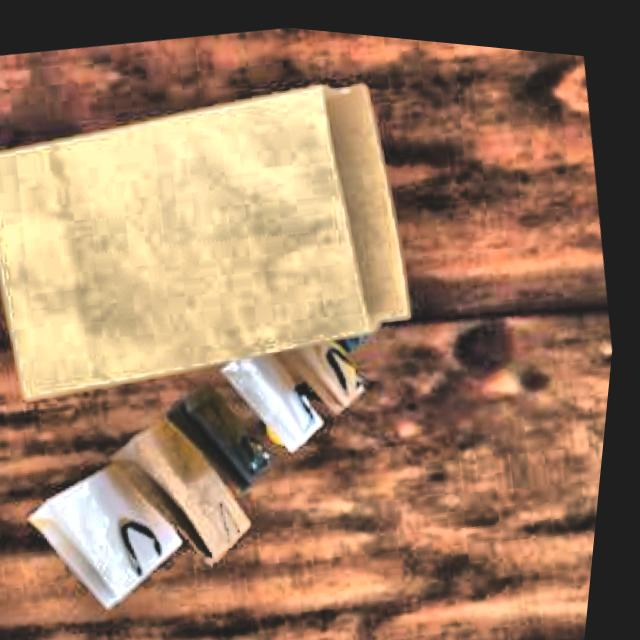Paper-bag: (0, 23, 453, 436), (0, 293, 447, 635)
